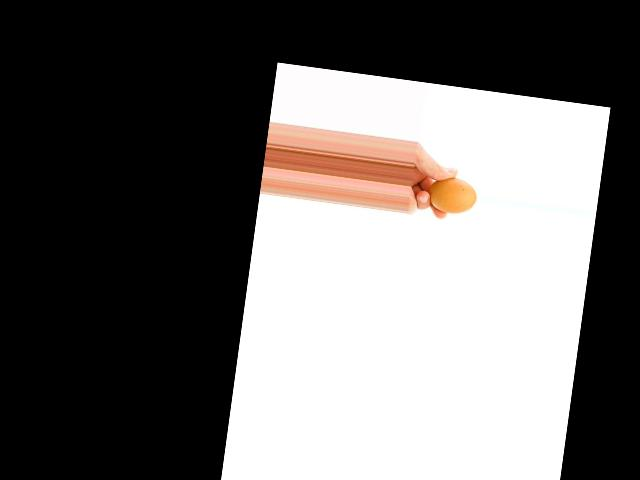egg: (427, 175, 478, 217)
